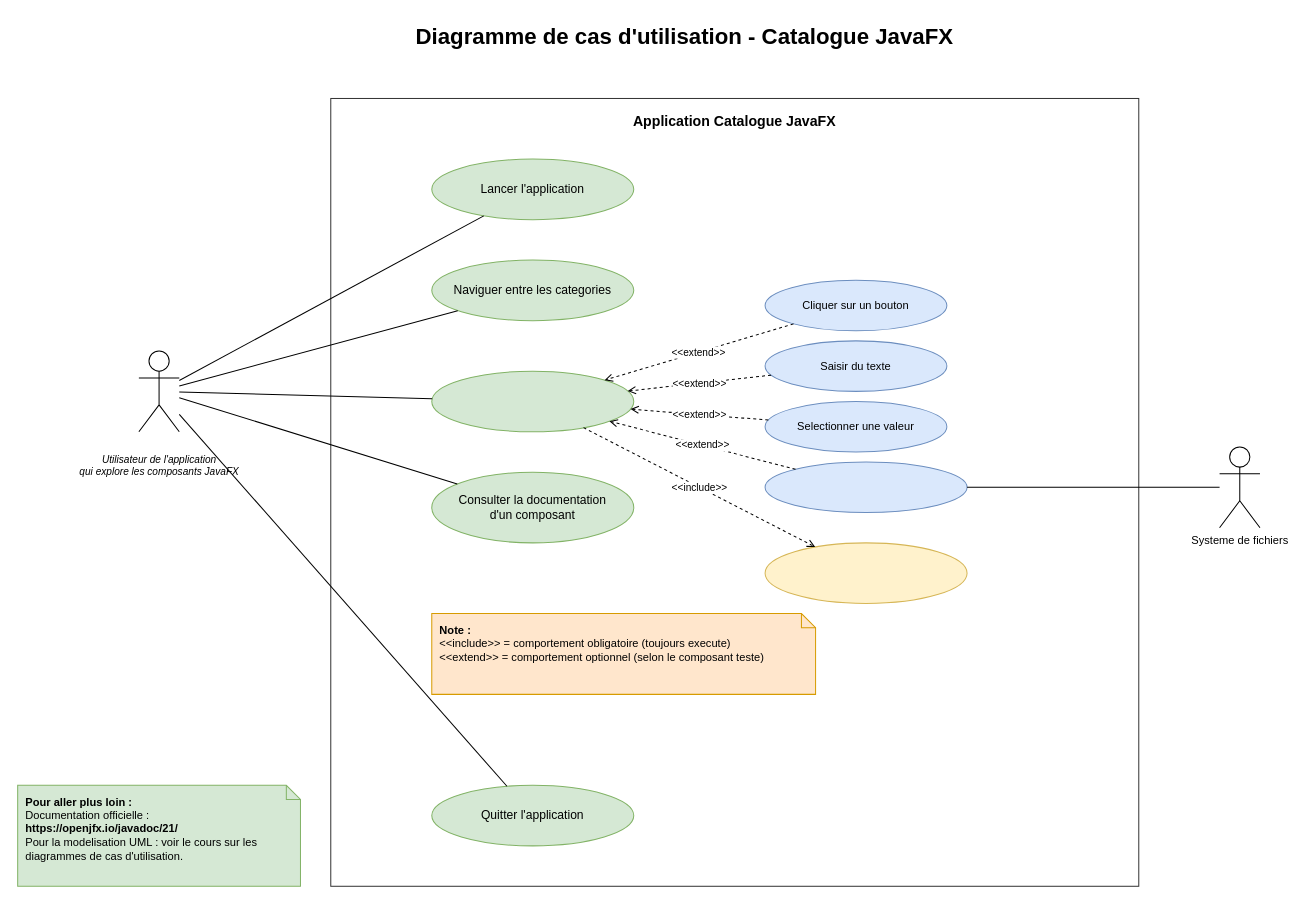
Some shapes in this 1306 by 904 pixel diagram are drawn without their labels. The centre of each missing label's shape, as x and y in pixels:
"Etudiant" belongs at point 158,391.
"Ouvrir une boite de dialogue" belongs at point 865,487.
"Tester un composant" belongs at point 532,401.
"Voir le retour d'action dans la barre d'etat" belongs at point 865,572.
